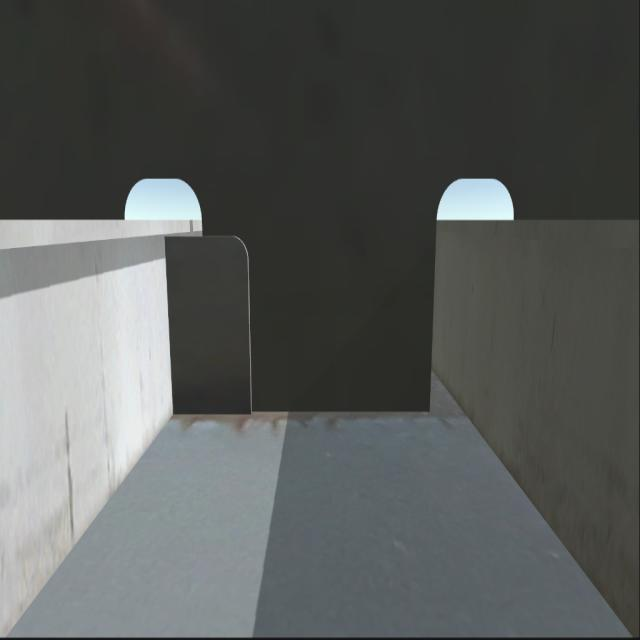fillet_yong_jeop_jang: (170, 399, 433, 421)
longi_yong_jeop_jang: (154, 227, 179, 428)
plate_CP05: (166, 226, 252, 417)
